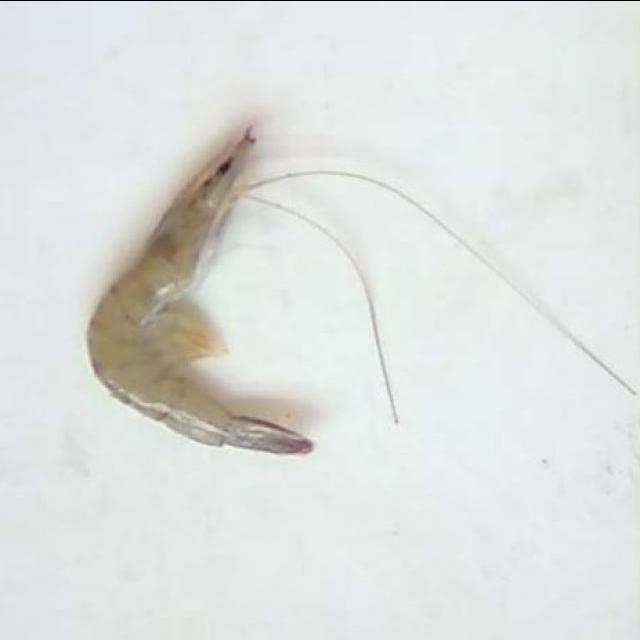shrimp: (87, 127, 312, 453)
